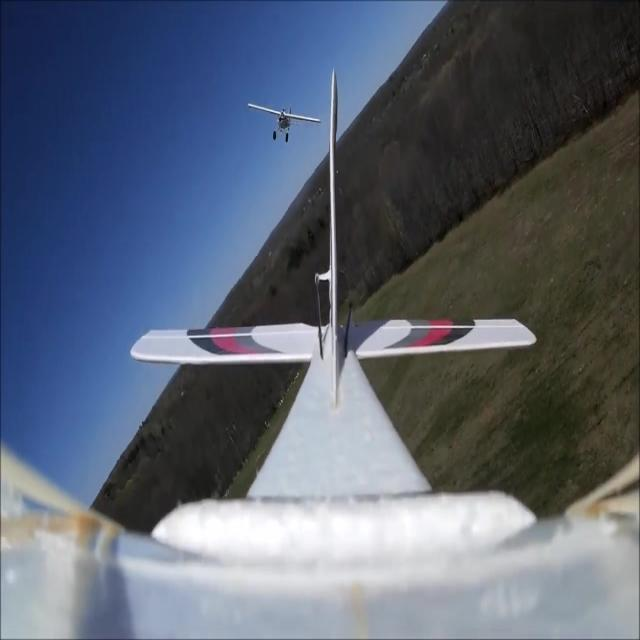iha: (283, 38, 286, 80)
